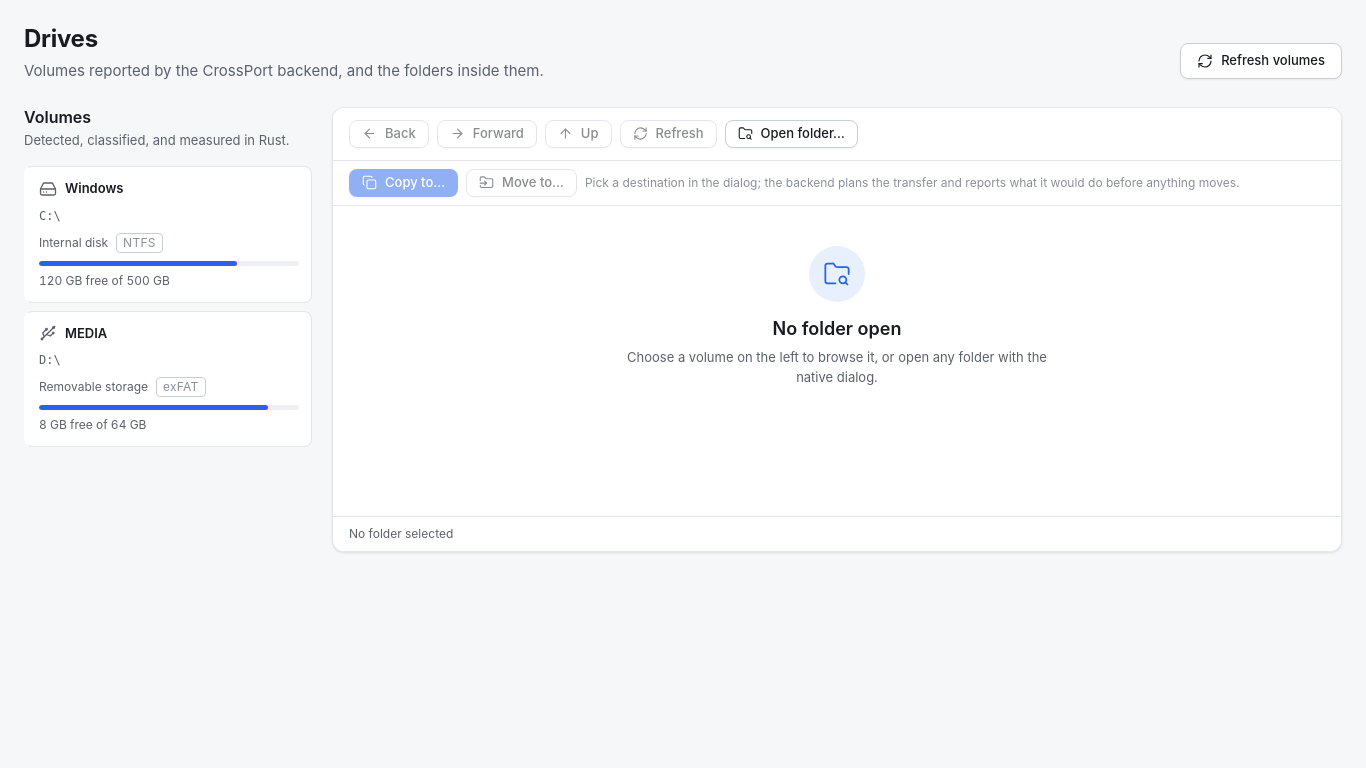
Test case: DrivesPage › navigates into a folder, up to the parent, and back again
Click the button "MEDIA D:\\ Removable storage exFAT 8 GB free of 64 GB" at (168, 379), box [24,310,312,447]
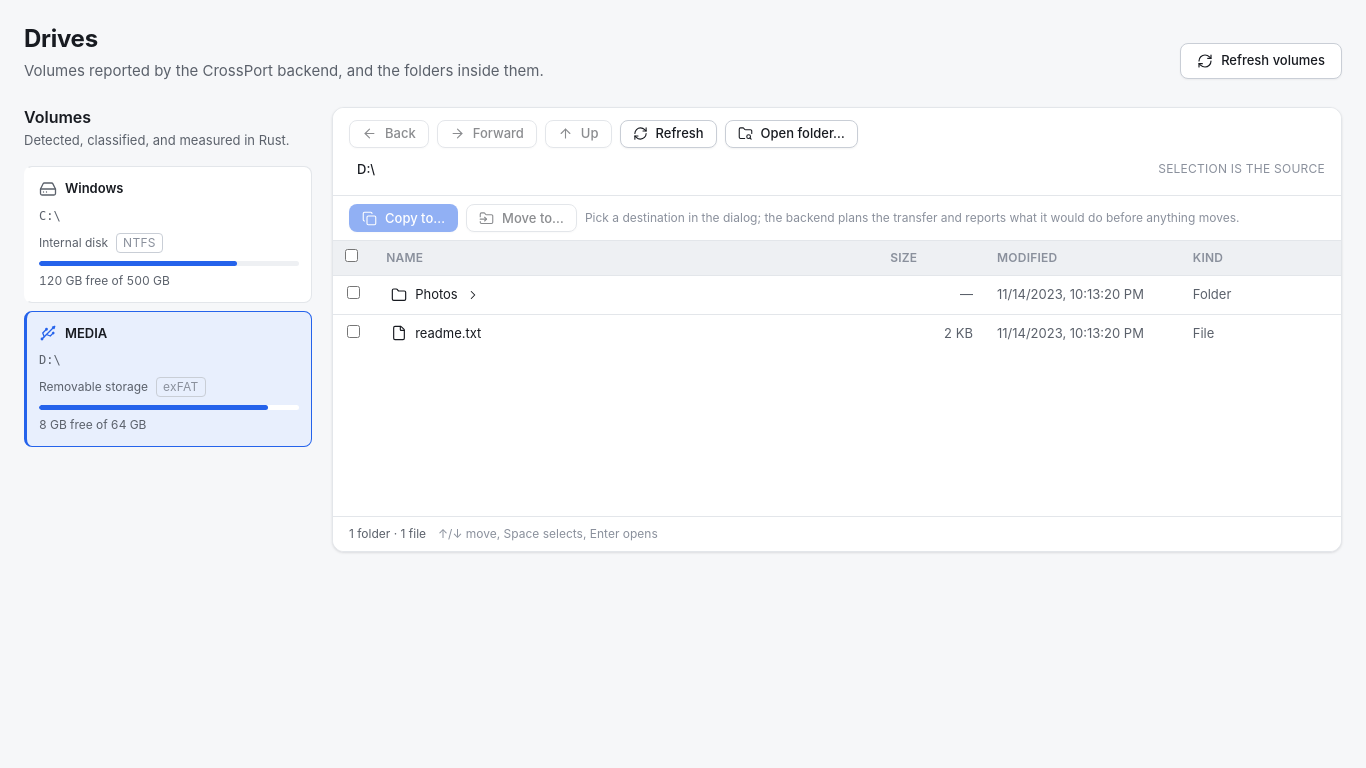
Click the button "Photos" at (436, 294), box [386,282,866,308]
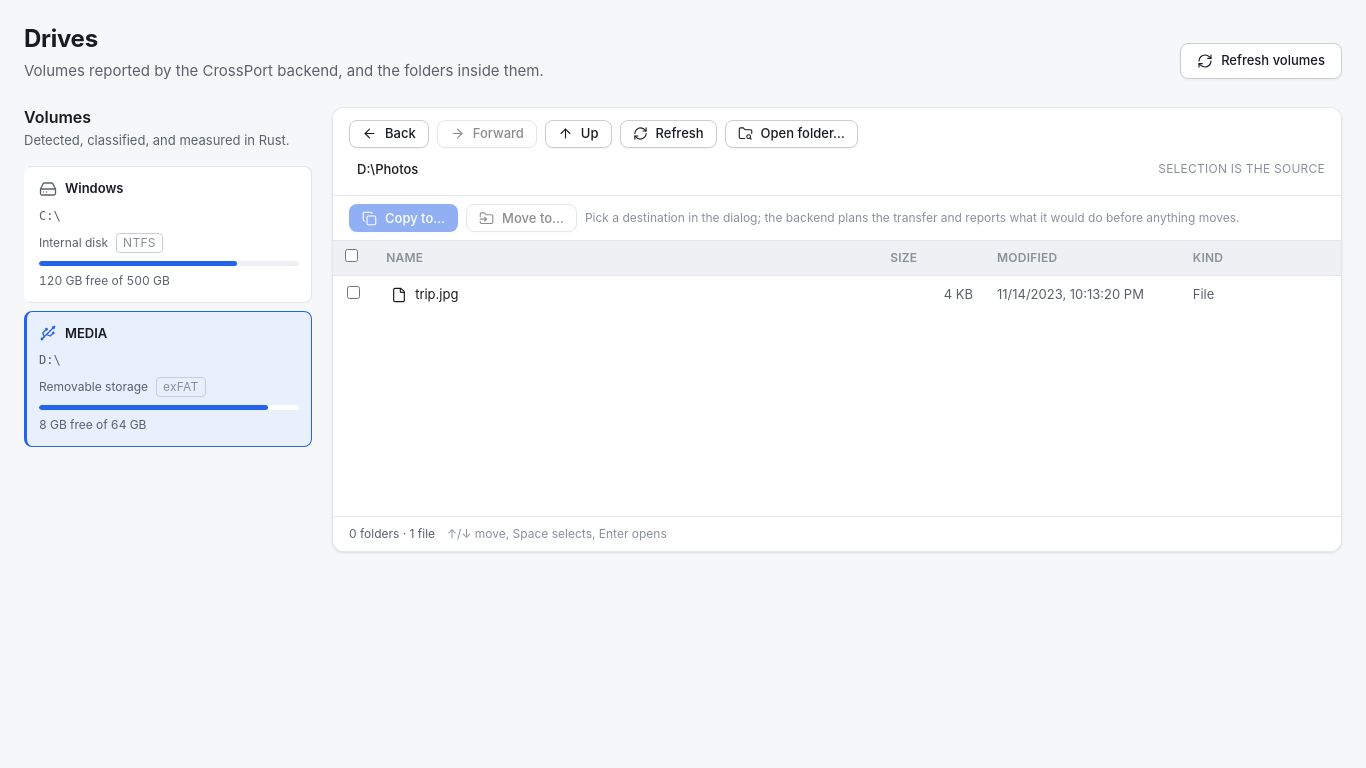
Check: the column heading "trip.jpg" is shown, box [374,276,878,314]
Check: the button "Back" is enabled, box [349,120,429,148]
Check: the button "Up" is enabled
Click the button "Up" at (578, 134), box [545,120,612,148]
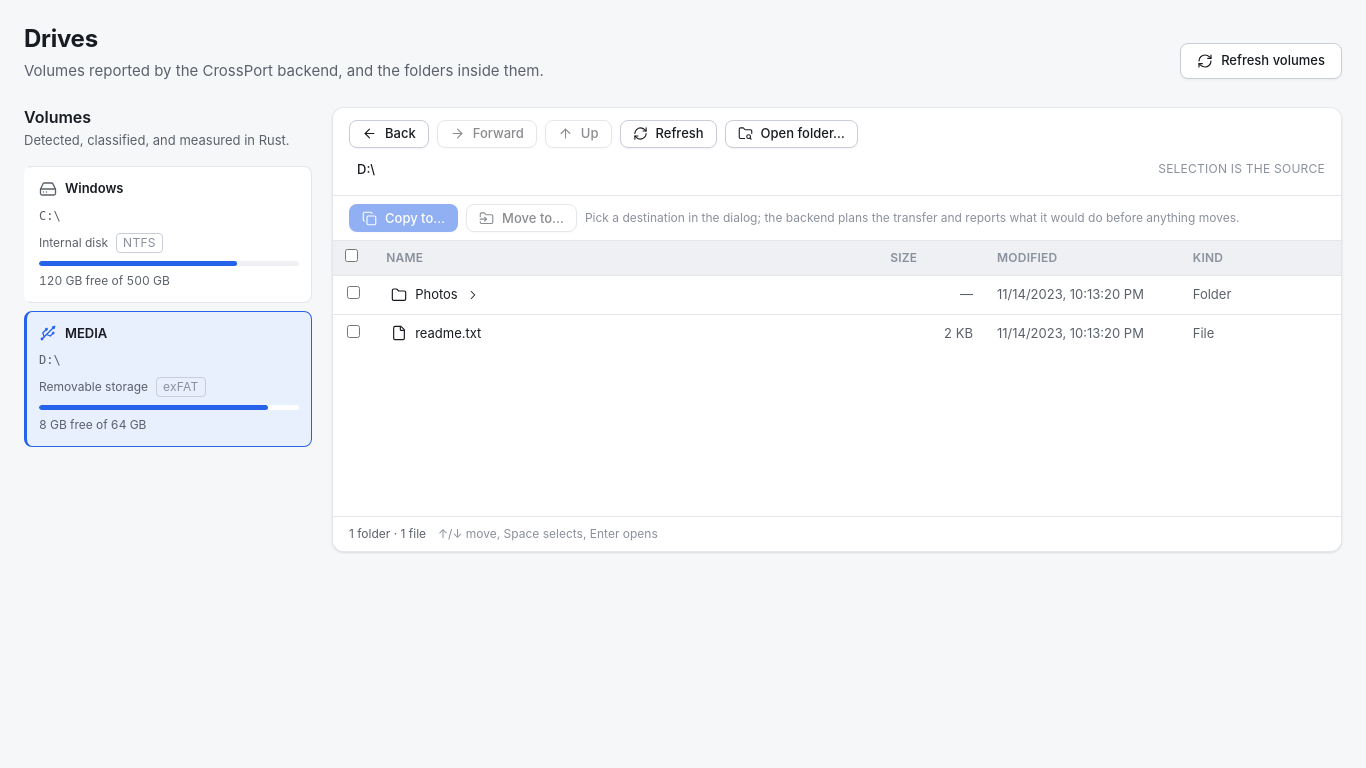
Check: the column heading "readme.txt" is shown, box [374,314,878,352]
Check: the button "Up" is disabled, box [545,120,612,148]
Click the button "Back" at (389, 134), box [349,120,429,148]
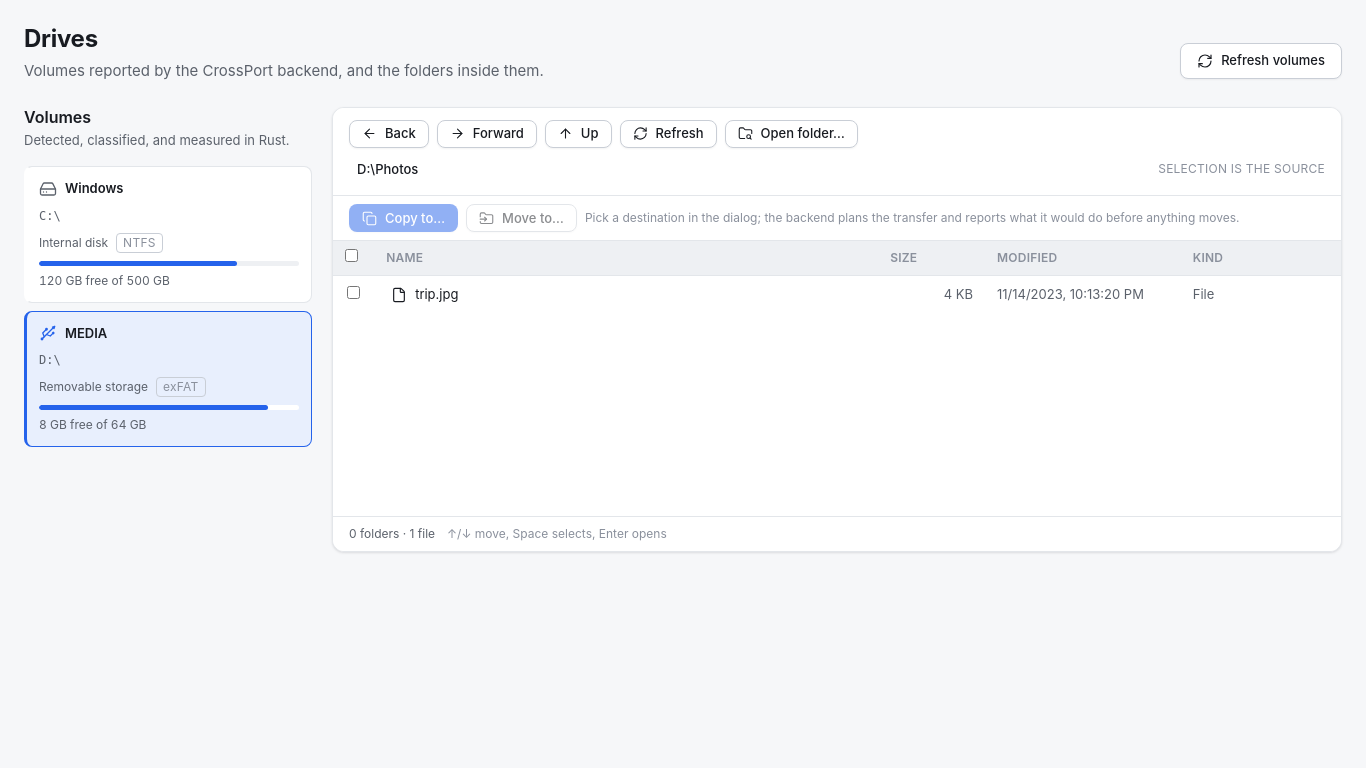
Check: the column heading "trip.jpg" is shown, box [374,276,878,314]
